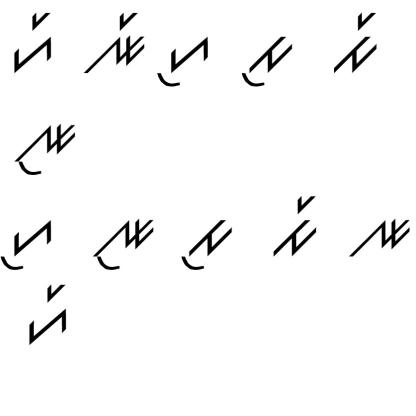har: (23, 280, 74, 355), (5, 8, 57, 74)
haw: (155, 32, 218, 88), (1, 218, 58, 272)
mbar: (321, 6, 381, 79), (269, 189, 321, 262)
mbaw: (170, 212, 237, 276), (233, 31, 297, 90)
nda: (348, 211, 413, 263)
ndar: (77, 9, 148, 78)
ndaw: (10, 118, 81, 181), (88, 209, 156, 274)
